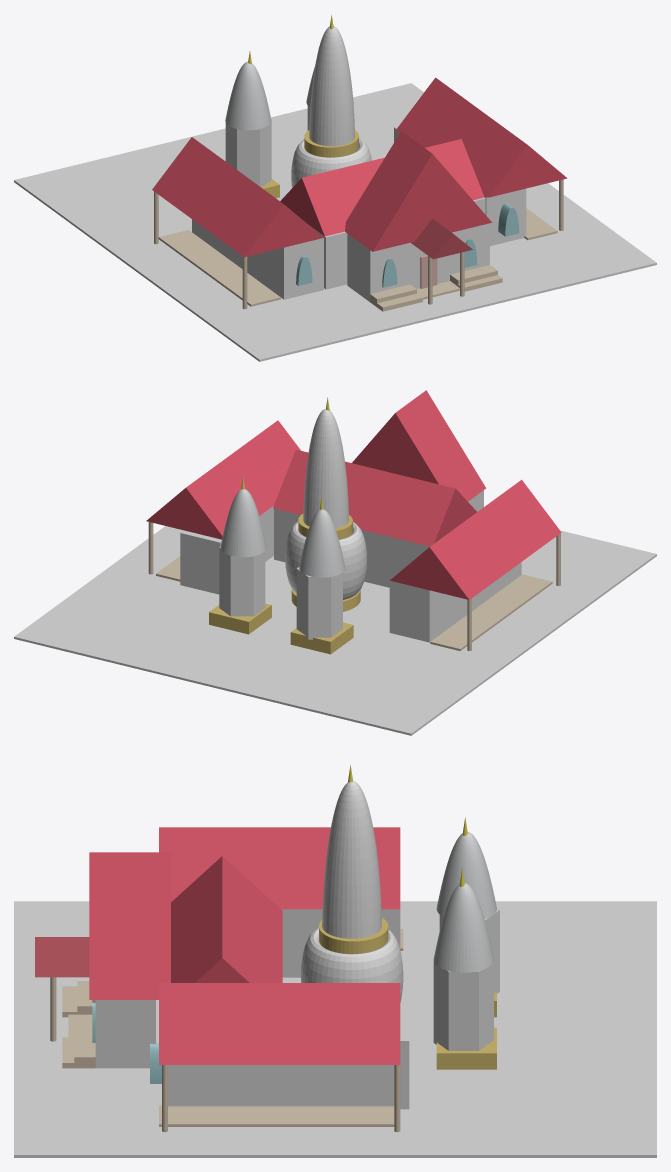
The model's file is Fantastic Jaban-Wolt (1).glb.
The picture shows the model from 3 angles, top to bottom: view 1: azimuth 30°, elevation 25°; view 2: azimuth 150°, elevation 25°; view 3: azimuth 270°, elevation 25°; orthographic projection. The views are drawn at different scales.
Visible parts, largest first — view 1: Mesh_Mesh_head_geo.001_lambert2SG.001; view 2: Mesh_Mesh_head_geo.001_lambert2SG.001; view 3: Mesh_Mesh_head_geo.001_lambert2SG.001.
Boxes of the visible parts, x1,y1,x2,y2 form: Mesh_Mesh_head_geo.001_lambert2SG.001: (14,15,656,361); Mesh_Mesh_head_geo.001_lambert2SG.001: (14,390,656,735); Mesh_Mesh_head_geo.001_lambert2SG.001: (14,765,656,1157).
Bounding box in the file's own units: 0.199 × 0.098 × 0.213.
